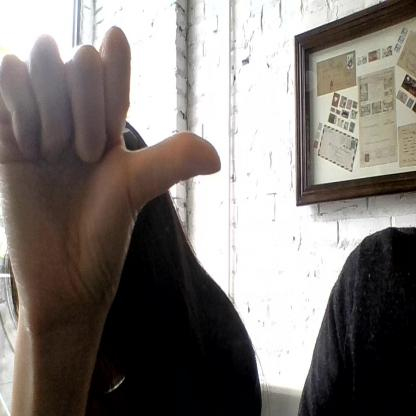left: (0, 25, 221, 310)
